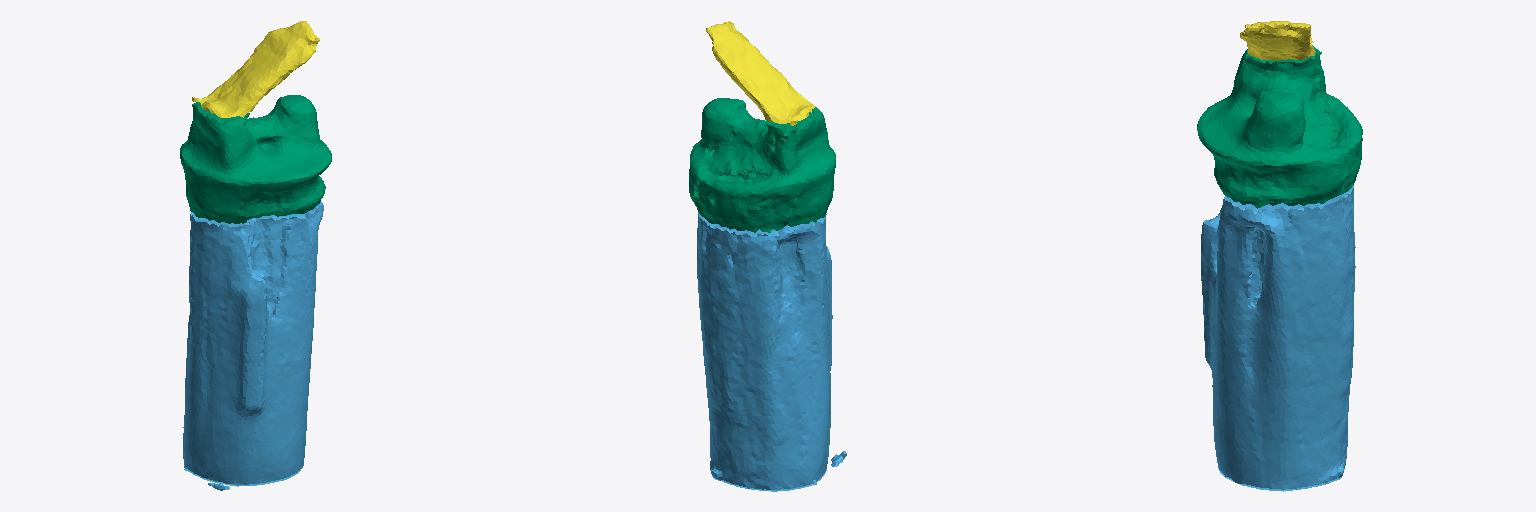
The robot description file, URDF, robot "object":
<?xml version='1.0' encoding='utf-8'?>
<robot name="object">
  <link name="base">
    <inertial>
      <origin xyz="0 0 0" rpy="0 0 0" />
      <mass value="0.0" />
      <inertia ixx="0" ixy="0" ixz="0" iyy="0" iyz="0" izz="0" />
    </inertial>
  </link>
  <link name="link_1">
    <visual>
      <origin xyz="0 0 0" rpy="0 0 0" />
      <geometry>
        <mesh filename="meshes/link_1.stl" />
      </geometry>
    </visual>
    <collision>
      <origin xyz="0 0 0" rpy="0 0 0" />
      <geometry>
        <mesh filename="meshes/link_1.stl" />
      </geometry>
    </collision>
    <inertial>
      <origin xyz="0.0173857514 0.000419991881 0.318694749" rpy="0 0 0" />
      <mass value="38.2261949" />
      <inertia ixx="-0.546795582" ixy="-0.010869197" ixz="0.00200410714" iyy="-0.544678617" iyz="-0.0243565377" izz="0.384876491" />
    </inertial>
  </link>
  <link name="link_2">
    <visual>
      <origin xyz="-0.023454612 -0.0106402766 -0.634624024" rpy="0 0 0" />
      <geometry>
        <mesh filename="meshes/link_2.stl" />
      </geometry>
    </visual>
    <collision>
      <origin xyz="-0.023454612 -0.0106402766 -0.634624024" rpy="0 0 0" />
      <geometry>
        <mesh filename="meshes/link_2.stl" />
      </geometry>
    </collision>
    <inertial>
      <origin xyz="0.000174482365 -0.0126442833 2.1238007" rpy="0 0 0" />
      <mass value="11.9412305" />
      <inertia ixx="-5155.47265" ixy="0.000498020342" ixz="-1.75033388" iyy="-5155.44961" iyz="0.00852166092" izz="0.131661686" />
    </inertial>
  </link>
  <link name="link_3">
    <visual>
      <origin xyz="0.0480141213 -0.00318566215 -0.881430138" rpy="0 0 0" />
      <geometry>
        <mesh filename="meshes/link_3.stl" />
      </geometry>
    </visual>
    <collision>
      <origin xyz="0.0480141213 -0.00318566215 -0.881430138" rpy="0 0 0" />
      <geometry>
        <mesh filename="meshes/link_3.stl" />
      </geometry>
    </collision>
    <inertial>
      <origin xyz="0.100370718 -0.0119813055 9.00383846" rpy="0 0 0" />
      <mass value="0.982597477" />
      <inertia ixx="-810566.744" ixy="0.000225252859" ixz="85.8923386" iyy="-810566.742" iyz="-0.0480350525" izz="0.00410554351" />
    </inertial>
  </link>
  <joint name="joint_1_2" type="revolute">
    <parent link="link_1" />
    <child link="link_2" />
    <origin xyz="0.023454612 0.0106402766 0.634624024" rpy="0 0 0" />
    <axis xyz="0.000968485304 -0.000449219502 -0.99999943" />
    <limit lower="-1.57" upper="1.57" effort="10.0" velocity="1.0" />
  </joint>
  <joint name="joint_2_3" type="revolute">
    <parent link="link_2" />
    <child link="link_3" />
    <origin xyz="-0.0714687334 -0.00745461445 0.246806115" rpy="0 0 0" />
    <axis xyz="-0.00540993742 -0.999984964 0.000896880387" />
    <limit lower="-1.57" upper="1.57" effort="10.0" velocity="1.0" />
  </joint>
  <joint name="base_to_1" type="fixed">
    <parent link="base" />
    <child link="link_1" />
    <origin xyz="0 0 0" rpy="0 0 0" />
  </joint>
</robot>

--- Render facts (derived) ---
Views: 3 orthographic renders of the robot side by side, from view 1: azimuth 30°, elevation 25°; view 2: azimuth 150°, elevation 25°; view 3: azimuth 270°, elevation 25°.
Robot: object — 4 links, 3 joints (2 revolute, 1 fixed); root link base; default pose: every joint at zero.
Links seen in each view (by area): view 1: link_1, link_2, link_3; view 2: link_1, link_2, link_3; view 3: link_1, link_2, link_3.
Boxes of the visible links, box(x1,y1,x2,y2) form: link_1: box(183, 202, 323, 490); link_2: box(180, 95, 331, 223); link_3: box(192, 21, 319, 117); link_1: box(697, 212, 846, 491); link_2: box(689, 98, 835, 232); link_3: box(706, 21, 815, 125); link_1: box(1201, 185, 1355, 491); link_2: box(1197, 45, 1362, 208); link_3: box(1240, 21, 1315, 60).
Size in the robot's own frame: 0.3382 by 0.3313 by 1.04 metres.
3 mesh visuals loaded from 3 distinct referenced files (3 binary STL).
